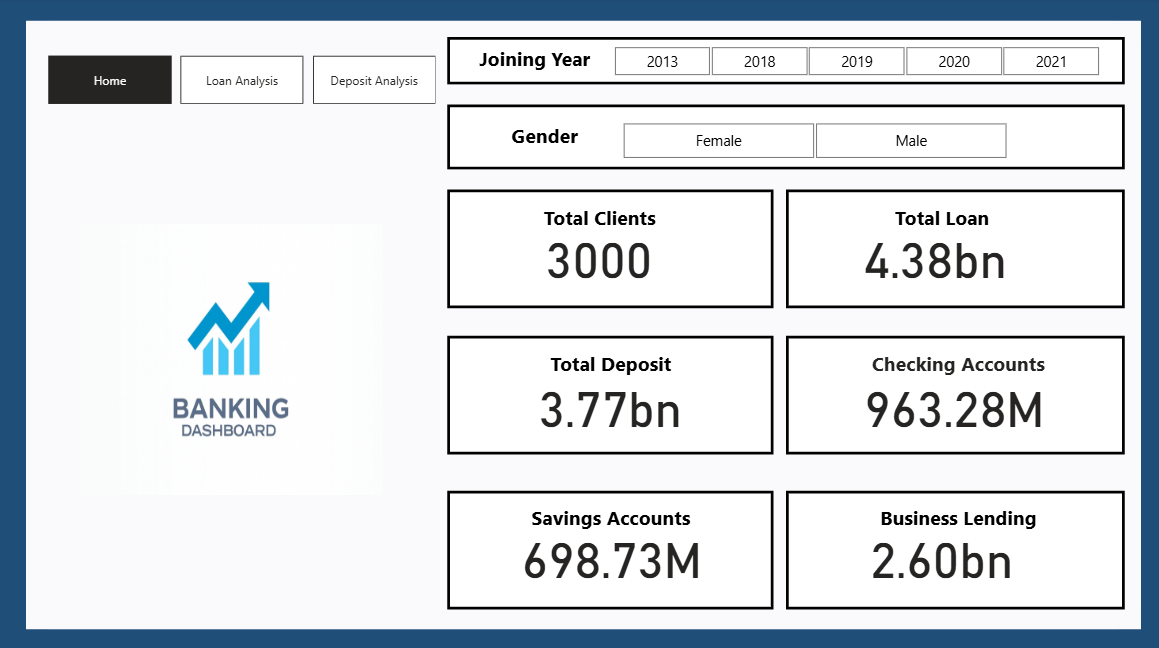

Layout of this report page (visuals, bound fields, positions):
{"tool":"powerbi","page":{"name":"Home","canvas":[1280,720],"ordinal":0},"visuals":[{"type":"shape","box":[32.9,26.1,1224,668.3],"z":0},{"type":"shape","box":[495.4,43.9,743.7,52.1],"z":1000},{"type":"shape","box":[495.4,118,743.7,71.4],"z":2000},{"type":"shape","title":"Total Clients","box":[495.4,211.3,358.1,130.4],"z":3000},{"type":"shape","box":[867.2,211.3,371.9,130.4],"z":4000},{"type":"shape","box":[495.4,542,358.1,130.4],"z":5000},{"type":"shape","box":[495.4,371.9,358.1,130.4],"z":6000},{"type":"shape","box":[867.2,542,371.9,130.4],"z":7000},{"type":"shape","box":[867.2,371.9,371.9,130.4],"z":8000},{"type":"textbox","box":[568.1,222.3,189.4,42.5],"z":9000},{"type":"card","fields":{"Values":["CountNonNull(banking_details.Name)"]},"box":[585.9,264.8,152.3,57.6],"z":10000},{"type":"textbox","box":[944.1,222.3,189.4,42.5],"z":11000},{"type":"textbox","box":[929,382.8,255.2,42.5],"z":12000},{"type":"textbox","box":[580.4,551.6,189.4,42.5],"z":13000},{"type":"textbox","box":[580.4,382.8,189.4,42.5],"z":14000},{"type":"textbox","box":[929,551.6,255.2,42.5],"z":15000},{"type":"textbox","box":[507.7,131.7,189.4,42.5],"z":16000},{"type":"image","box":[86.4,244.3,343.1,307.4],"z":17000},{"type":"slicer","fields":{"Values":["banking_details.GenderId"]},"box":[662.8,131.7,470.7,52.1],"z":18000},{"type":"card","fields":{"Values":["banking_details.Total Loan"]},"box":[929,264.8,204.5,57.6],"z":19000},{"type":"card","fields":{"Values":["banking_details.Total Deposit"]},"box":[572.2,428.1,204.5,57.6],"z":20000},{"type":"card","fields":{"Values":["Sum(banking_details.Checking Accounts)"]},"box":[944.1,428.1,215.4,57.6],"z":21000},{"type":"card","fields":{"Values":["Sum(banking_details.Business Lending)"]},"box":[930.4,594.2,215.4,57.6],"z":22000},{"type":"card","fields":{"Values":["Sum(banking_details.Saving Accounts)"]},"box":[568.1,594.2,215.4,57.6],"z":23000},{"type":"slicer","fields":{"Values":["banking_details.Year of Joining"]},"box":[653.2,48,581.8,42.5],"z":24000},{"type":"textbox","box":[507.7,48,167.4,42.5],"z":25000},{"type":"pageNavigator","box":[57.6,64.5,426.8,53.5],"z":26000}]}

Visuals, with their boxes in screenshot pixels (x1, y1, x2, y2), scaled from the page's 1280x720 canvas onto the 1159x648 screenshot:
shape: {"x1": 30, "y1": 23, "x2": 1138, "y2": 625}
shape: {"x1": 449, "y1": 40, "x2": 1122, "y2": 86}
shape: {"x1": 449, "y1": 106, "x2": 1122, "y2": 170}
"Total Clients" shape: {"x1": 449, "y1": 190, "x2": 773, "y2": 308}
shape: {"x1": 785, "y1": 190, "x2": 1122, "y2": 308}
shape: {"x1": 449, "y1": 488, "x2": 773, "y2": 605}
shape: {"x1": 449, "y1": 335, "x2": 773, "y2": 452}
shape: {"x1": 785, "y1": 488, "x2": 1122, "y2": 605}
shape: {"x1": 785, "y1": 335, "x2": 1122, "y2": 452}
textbox: {"x1": 514, "y1": 200, "x2": 686, "y2": 238}
card - CountNonNull(banking_details.Name): {"x1": 531, "y1": 238, "x2": 668, "y2": 290}
textbox: {"x1": 855, "y1": 200, "x2": 1026, "y2": 238}
textbox: {"x1": 841, "y1": 345, "x2": 1072, "y2": 383}
textbox: {"x1": 526, "y1": 496, "x2": 697, "y2": 535}
textbox: {"x1": 526, "y1": 345, "x2": 697, "y2": 383}
textbox: {"x1": 841, "y1": 496, "x2": 1072, "y2": 535}
textbox: {"x1": 460, "y1": 119, "x2": 631, "y2": 157}
image: {"x1": 78, "y1": 220, "x2": 389, "y2": 497}
slicer - banking_details.GenderId: {"x1": 600, "y1": 119, "x2": 1026, "y2": 165}
card - banking_details.Total Loan: {"x1": 841, "y1": 238, "x2": 1026, "y2": 290}
card - banking_details.Total Deposit: {"x1": 518, "y1": 385, "x2": 703, "y2": 437}
card - Sum(banking_details.Checking Accounts): {"x1": 855, "y1": 385, "x2": 1050, "y2": 437}
card - Sum(banking_details.Business Lending): {"x1": 842, "y1": 535, "x2": 1037, "y2": 587}
card - Sum(banking_details.Saving Accounts): {"x1": 514, "y1": 535, "x2": 709, "y2": 587}
slicer - banking_details.Year of Joining: {"x1": 591, "y1": 43, "x2": 1118, "y2": 81}
textbox: {"x1": 460, "y1": 43, "x2": 611, "y2": 81}
pageNavigator: {"x1": 52, "y1": 58, "x2": 439, "y2": 106}
